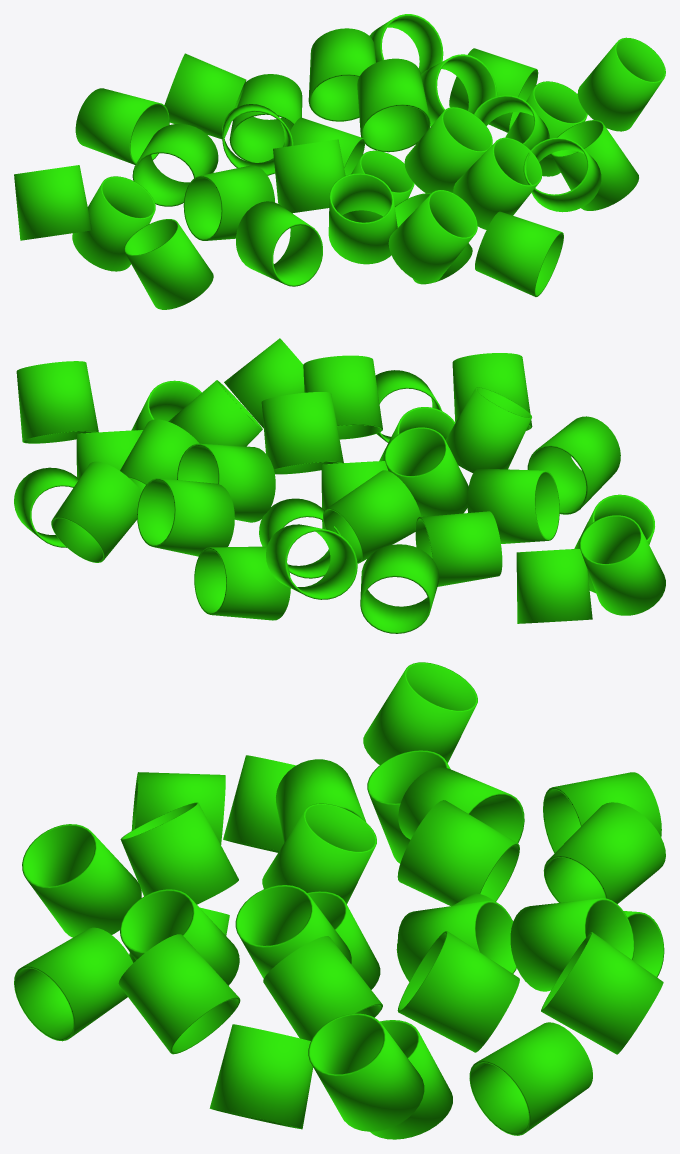
Rendered from Springonion.fbx.
The picture shows the model from 3 angles, top to bottom: view 1: azimuth 30°, elevation 25°; view 2: azimuth 150°, elevation 25°; view 3: azimuth 270°, elevation 25°; orthographic projection. The views are drawn at different scales.
Parts seen in each view (by area): view 1: springonion; view 2: springonion; view 3: springonion.
Part boxes in pixels (bbox=[...]): springonion: bbox=[14, 14, 665, 309]; springonion: bbox=[14, 338, 665, 633]; springonion: bbox=[14, 662, 665, 1139].
Bounding box in the file's own units: 1238 × 227 × 862.
